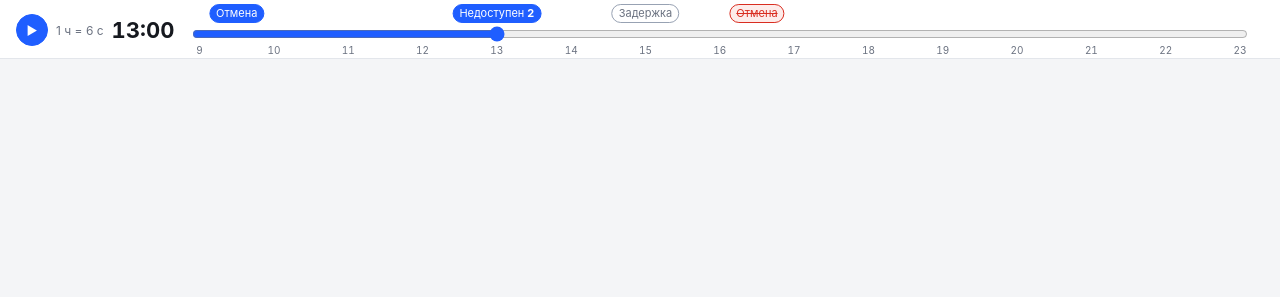
Test: TimeBar › lists the events of a pin with their status and deletes one of them
The image size is (1280, 297).
Step 1. Click the 2nd button titled "Отмена заявки 74198" → (757, 14), box top-left (729, 4), bottom-right (785, 23)
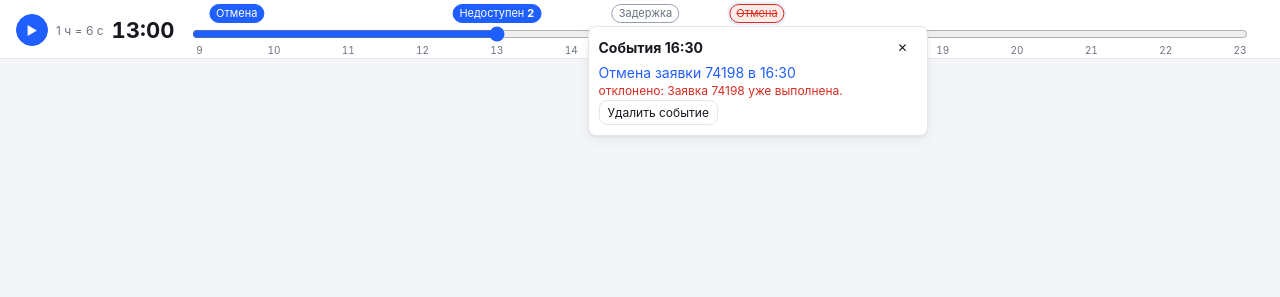
Result: the button "Отмена заявки 74198 в 16:30" is shown at top-left (598, 64), bottom-right (796, 81)
Result: the text "отклонено: Заявка 74198 уже выполнена." is shown at top-left (598, 83), bottom-right (843, 98)
Step 2. Click the button named "Закрыть события" → (902, 48), box top-left (888, 35), bottom-right (916, 60)
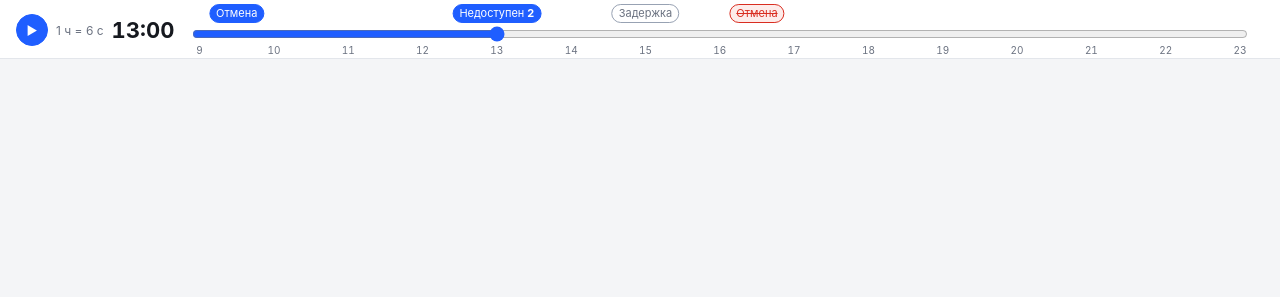
Result: the text "События 16:30" is gone
Step 3. Click the button titled "Инженер недоступен: Бригада Комарь с 13:00" → (497, 14), box top-left (452, 4), bottom-right (541, 23)
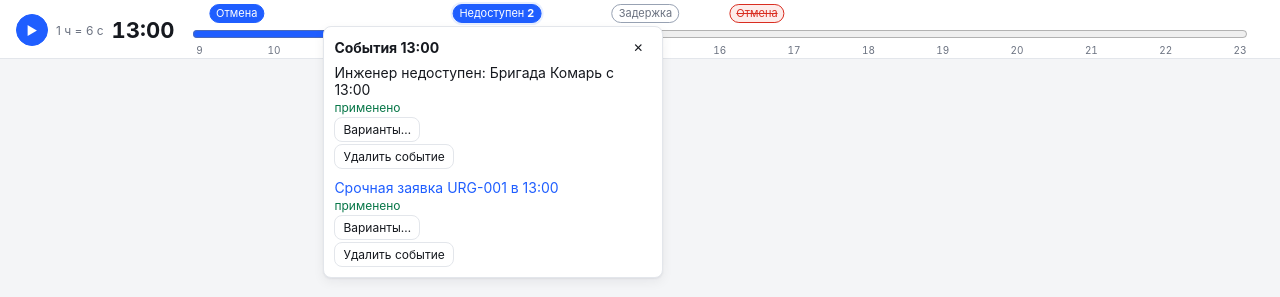
Result: the number of list items is 2 at top-left (334, 64), bottom-right (652, 169); top-left (334, 179), bottom-right (559, 267)
Result: the text "Инженер недоступен: Бригада Комарь с 13:00" is shown at top-left (334, 64), bottom-right (652, 98)
Result: the button "Срочная заявка URG-001 в 13:00" is shown at top-left (334, 179), bottom-right (559, 196)
Step 4. Click the 2nd button "Удалить событие" → (394, 254), box top-left (334, 242), bottom-right (454, 267)
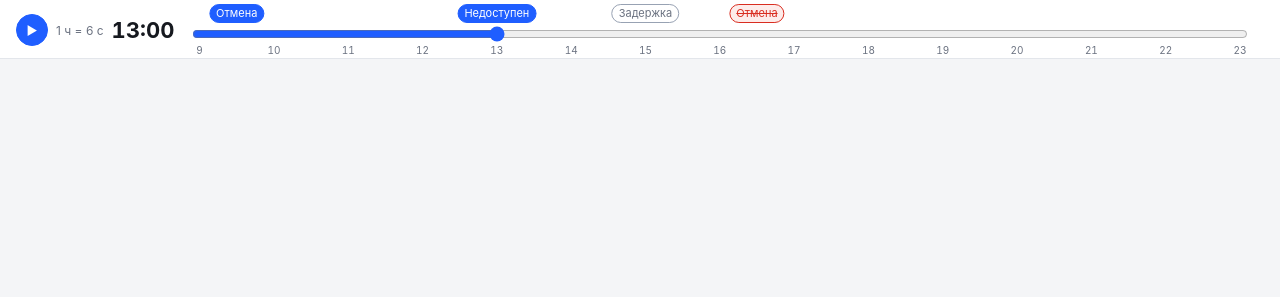
Expected: the button titled "Инженер недоступен: Бригада Комарь с 13:00 · применено" is shown, top-left (457, 4), bottom-right (536, 23)
Result: the text "События 13:00" is gone
